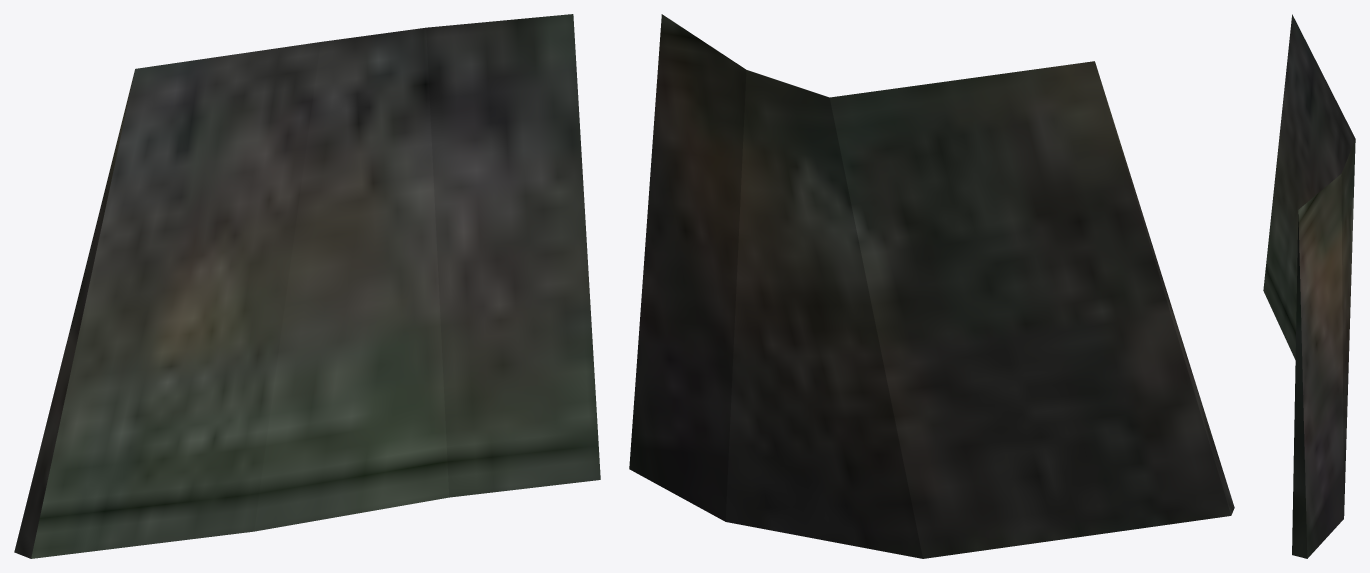
File: vehicle_uni_carrier_blow_piece13.glb
The picture shows the model from 3 angles, left to right: view 1: azimuth 30°, elevation 25°; view 2: azimuth 150°, elevation 25°; view 3: azimuth 270°, elevation 25°; orthographic projection. The views are drawn at different scales.
Bounding box in the file's own units: 24.55 × 20.83 × 4.54.
1 material, 1 textured.
